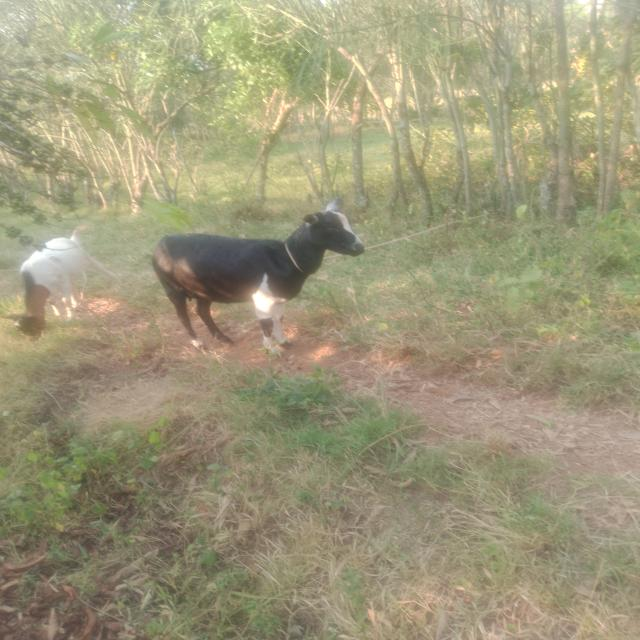goat: (111, 145, 410, 387)
